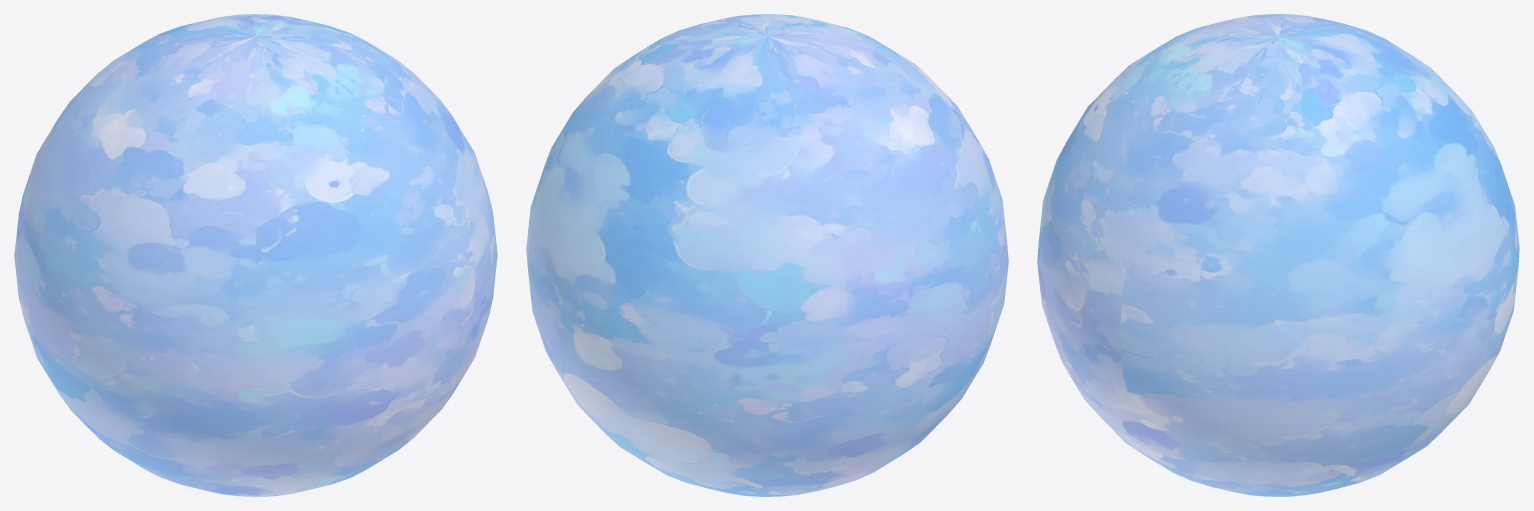
The model's file is isla1Final.gltf.
The picture shows the model from 3 angles, left to right: view 1: azimuth 30°, elevation 25°; view 2: azimuth 150°, elevation 25°; view 3: azimuth 270°, elevation 25°; orthographic projection.
Parts seen in each view (by area): view 1: planetaFinalIsla1; view 2: planetaFinalIsla1; view 3: planetaFinalIsla1.
Boxes of the visible parts, bbox=[...] form: planetaFinalIsla1: bbox=[14, 14, 497, 496]; planetaFinalIsla1: bbox=[526, 14, 1008, 496]; planetaFinalIsla1: bbox=[1037, 14, 1519, 496].
Size of the model in its own units: 36.31 by 36.4 by 36.31.
6 materials, 5 textured.
